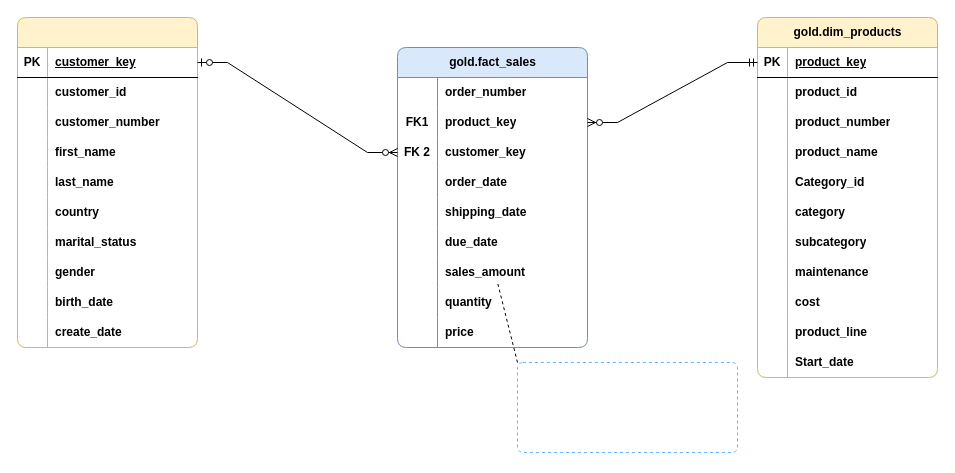
This 955x473 diagram has some shape labels left out. The box of each missing label's shape, as (x1, y1, x2, y2) in pixels:
gold.dim_customers: (16, 16, 198, 348)
Sales Calculation sales_amount = price * quantity: (516, 362, 738, 452)
